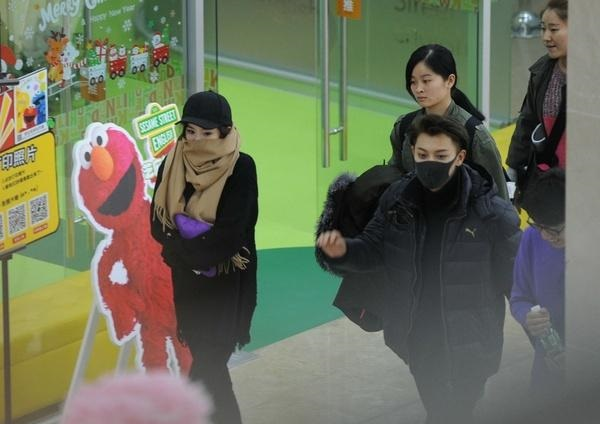face: (184, 119, 223, 163), (539, 13, 568, 56), (410, 64, 440, 105)
face_mask: (412, 133, 456, 186)
